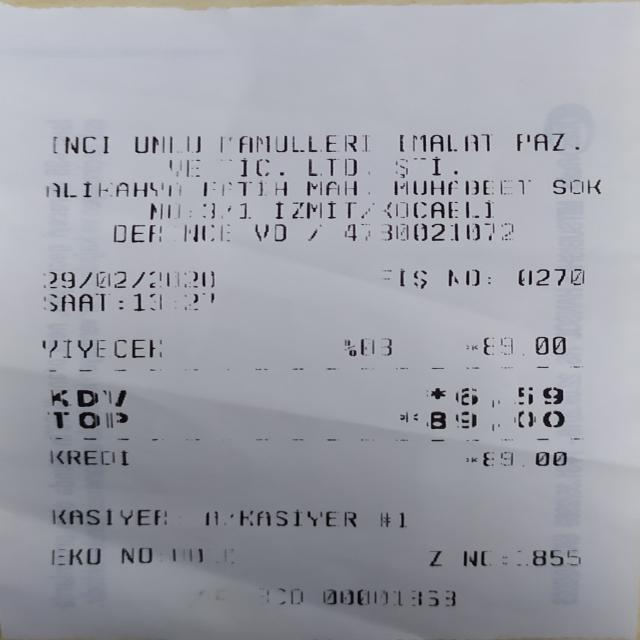text: (344, 220, 515, 243), (43, 269, 217, 289), (219, 132, 367, 154), (203, 508, 359, 528), (320, 587, 457, 609), (389, 177, 531, 196), (428, 410, 562, 430), (46, 507, 168, 528), (41, 337, 162, 358), (456, 386, 567, 406), (44, 180, 180, 196), (386, 200, 500, 218), (481, 334, 565, 356), (411, 130, 491, 153), (275, 200, 358, 220), (47, 409, 126, 430), (479, 449, 566, 468), (51, 386, 125, 408), (201, 178, 288, 196), (44, 290, 114, 312), (137, 132, 200, 155), (219, 155, 283, 177), (51, 448, 128, 466), (52, 132, 109, 156), (515, 268, 586, 286), (113, 221, 164, 244), (178, 221, 229, 244), (301, 156, 358, 176), (170, 546, 232, 564), (50, 545, 100, 567), (516, 130, 564, 152), (392, 156, 444, 176), (304, 177, 358, 196), (251, 587, 305, 606), (384, 267, 426, 289), (553, 176, 601, 195), (530, 549, 582, 565), (255, 220, 285, 244), (120, 544, 152, 566), (358, 336, 393, 356), (133, 289, 163, 312), (183, 290, 214, 312), (147, 200, 180, 220), (444, 268, 479, 286), (167, 159, 204, 176), (463, 548, 493, 566), (302, 223, 324, 241), (359, 200, 376, 219), (340, 338, 356, 356), (398, 412, 420, 424), (240, 200, 252, 220), (118, 289, 128, 312), (206, 200, 217, 220), (170, 290, 180, 312), (432, 386, 443, 406), (380, 508, 390, 530), (429, 548, 440, 566), (502, 548, 512, 566), (464, 344, 480, 351), (464, 456, 476, 465), (484, 275, 493, 286), (575, 129, 579, 152), (186, 208, 192, 217), (400, 509, 402, 530)
